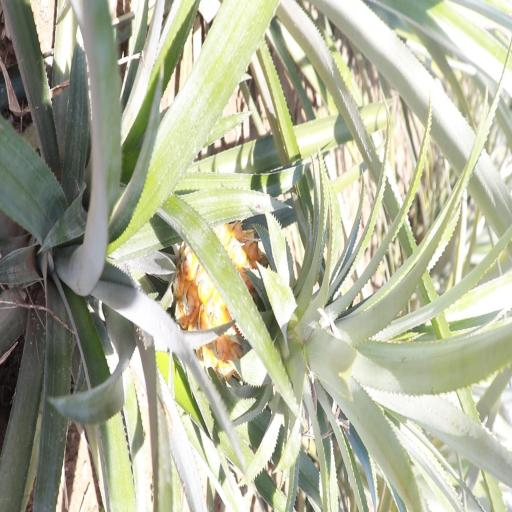Pineapple - v8 v1: (173, 221, 401, 400)
